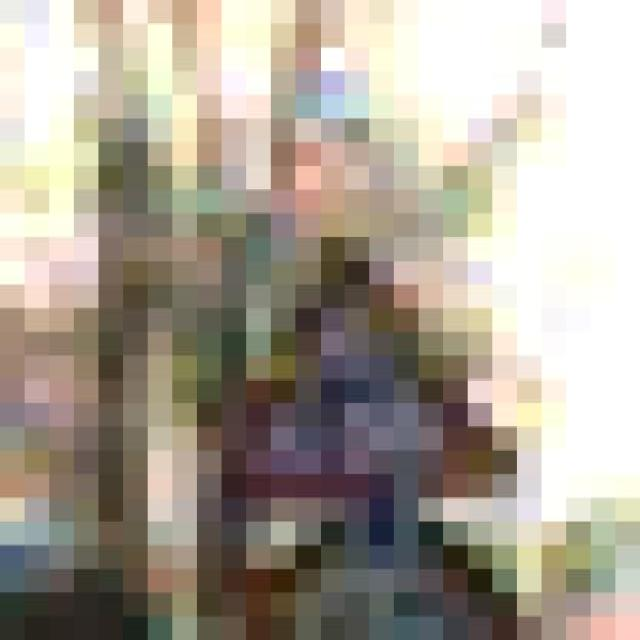Dangerous Rright Curve Ahead: (148, 213, 542, 522)
